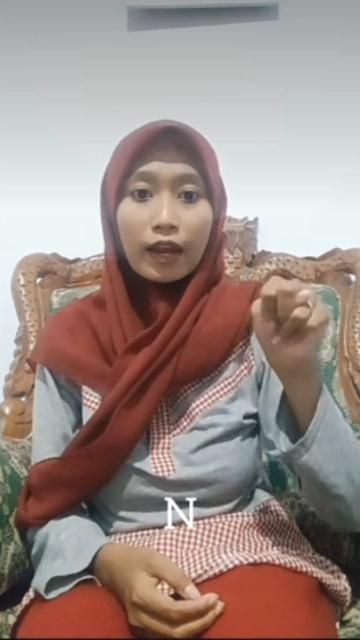N: (248, 266, 334, 374)
